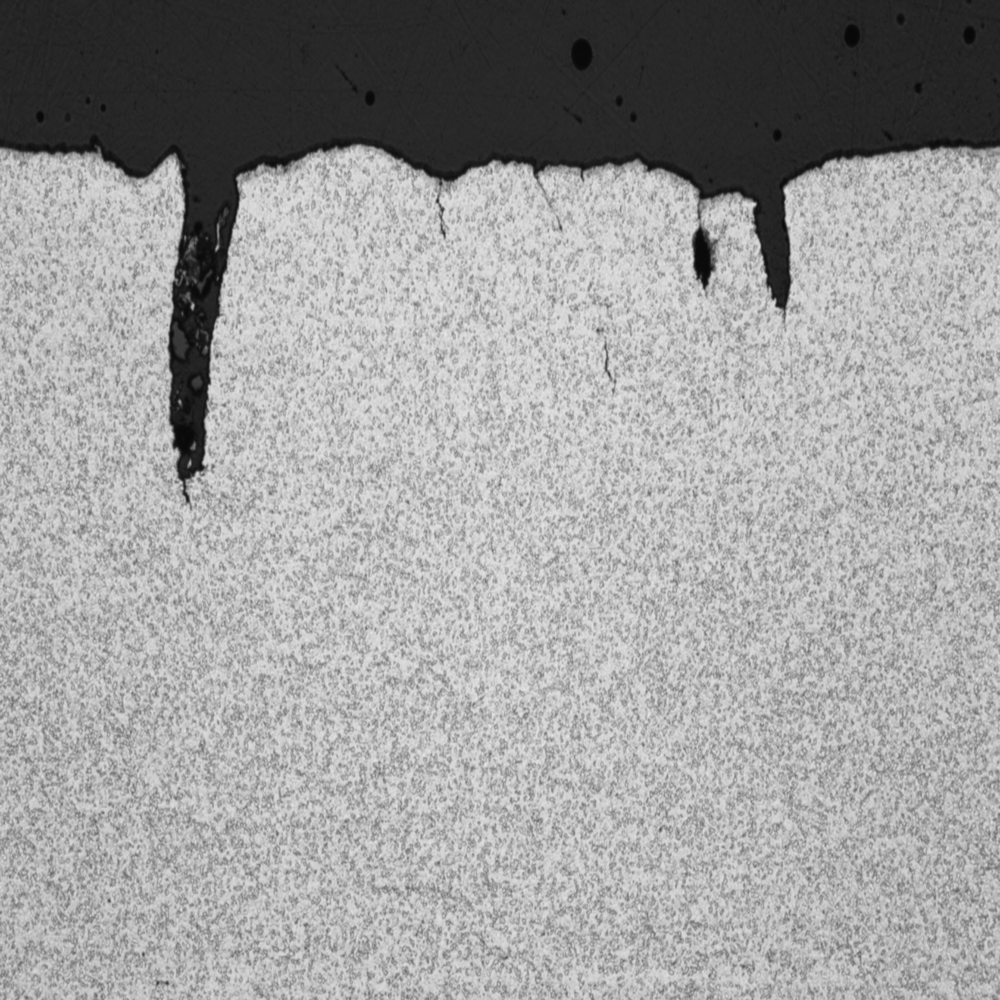crack: (134, 147, 257, 527), (738, 176, 810, 330), (686, 169, 721, 308)
